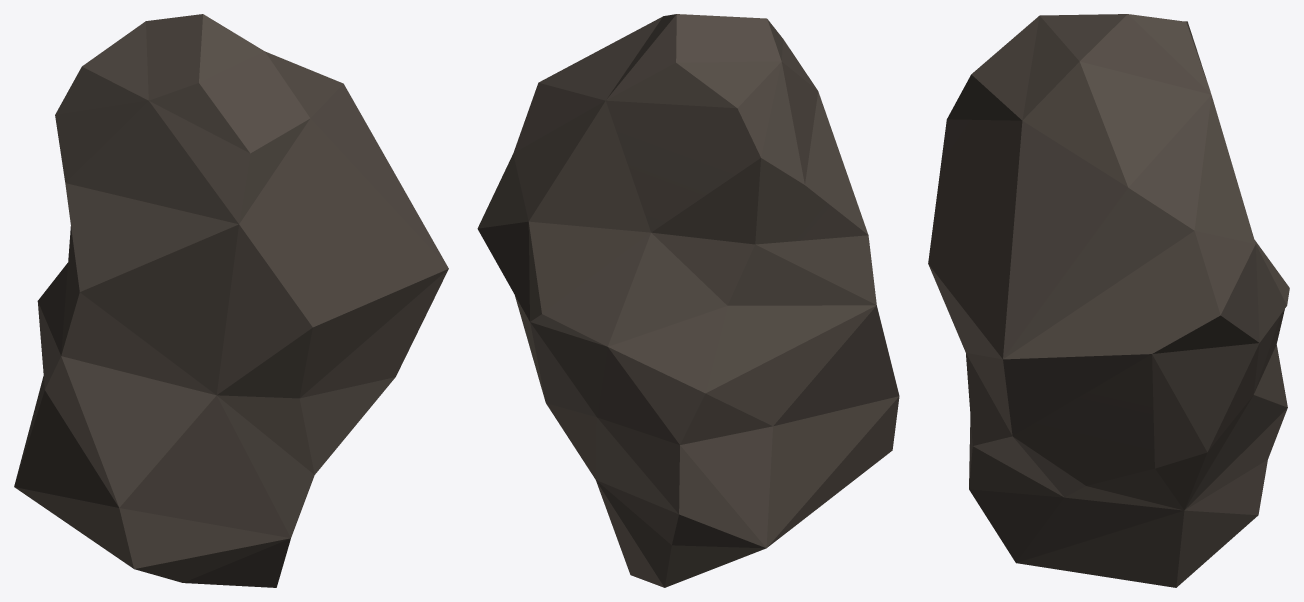
File: RockBeach2.glb
3 renders of one model, left to right at view 1: azimuth 30°, elevation 25°; view 2: azimuth 150°, elevation 25°; view 3: azimuth 270°, elevation 25°, orthographic. The views are drawn at different scales.
Parts seen in each view (by area): view 1: RockBeach2; view 2: RockBeach2; view 3: RockBeach2.
Boxes of the visible parts, x1=… form: RockBeach2: x1=14, y1=14, x2=448, y2=587; RockBeach2: x1=477, y1=14, x2=899, y2=587; RockBeach2: x1=928, y1=14, x2=1289, y2=587.
Size of the model in its own units: 0.7946 by 1.19 by 0.6946.
1 material, 1 textured.
